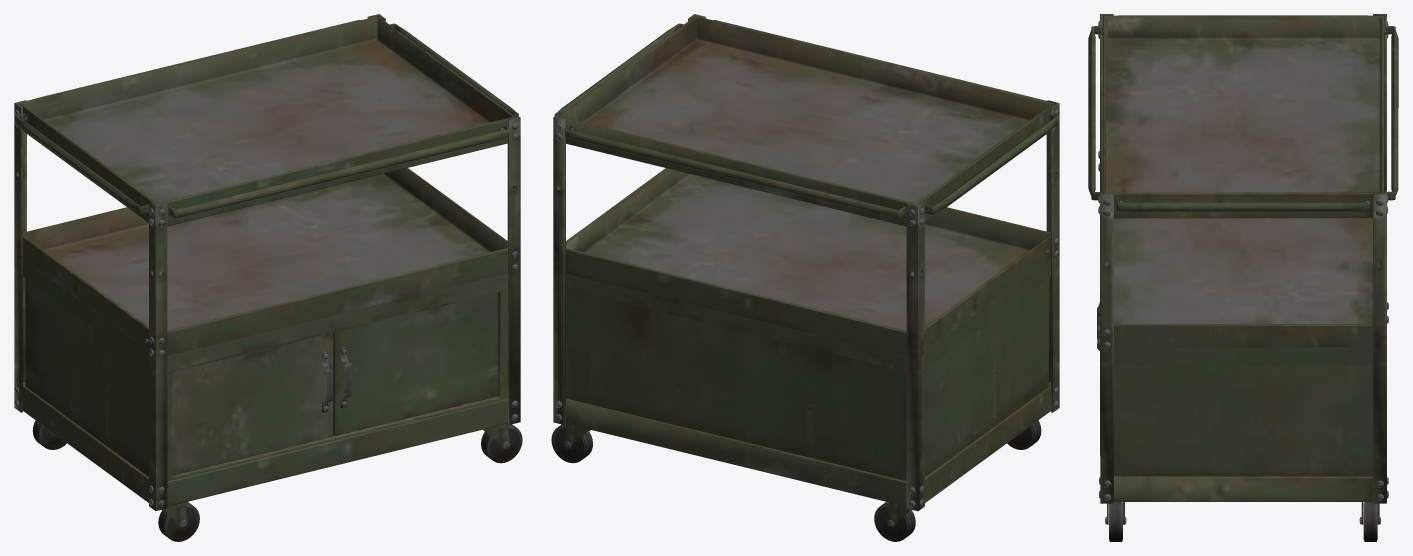
Rendered from industrial_storage_cart.glb.
The picture shows the model from 3 angles, left to right: view 1: azimuth 30°, elevation 25°; view 2: azimuth 150°, elevation 25°; view 3: azimuth 270°, elevation 25°; orthographic projection.
Parts seen in each view (by area): view 1: industrial_storage_cart; view 2: industrial_storage_cart; view 3: industrial_storage_cart.
Part boxes in pixels (box(x1,y1,x2,y2)): industrial_storage_cart: box(14, 14, 522, 541); industrial_storage_cart: box(551, 14, 1059, 541); industrial_storage_cart: box(1088, 14, 1398, 541).
Bounding box in the file's own units: 1.6 × 1.38 × 1.1.
1 material, 1 textured.
